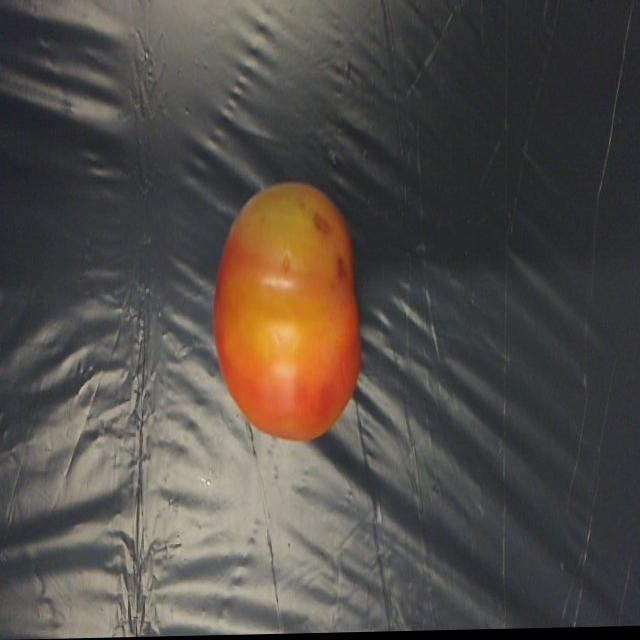sari: (197, 165, 383, 465)
